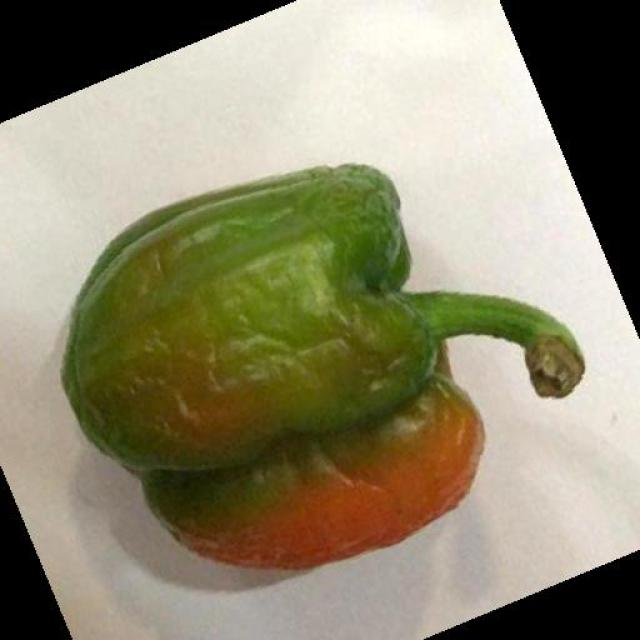Stale_Capsicum: (59, 168, 548, 513)
